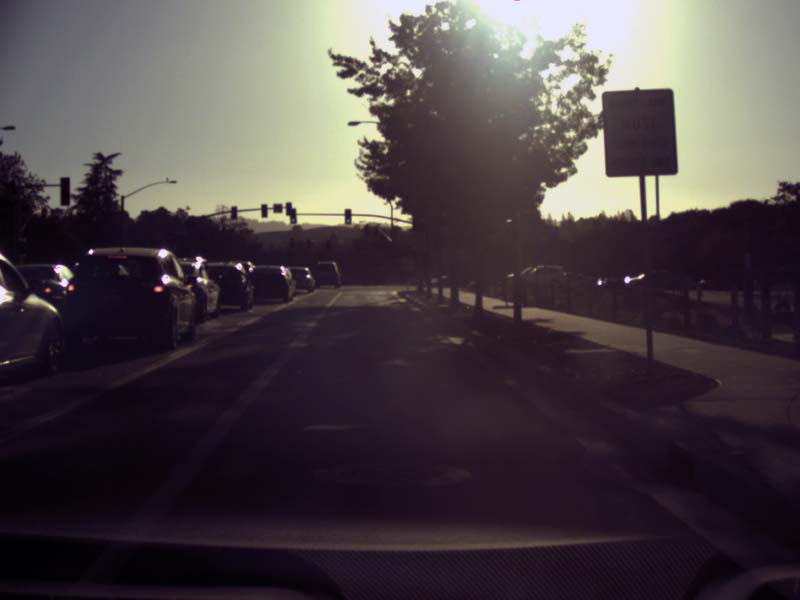Green: (343, 208, 351, 225), (290, 208, 296, 222)
